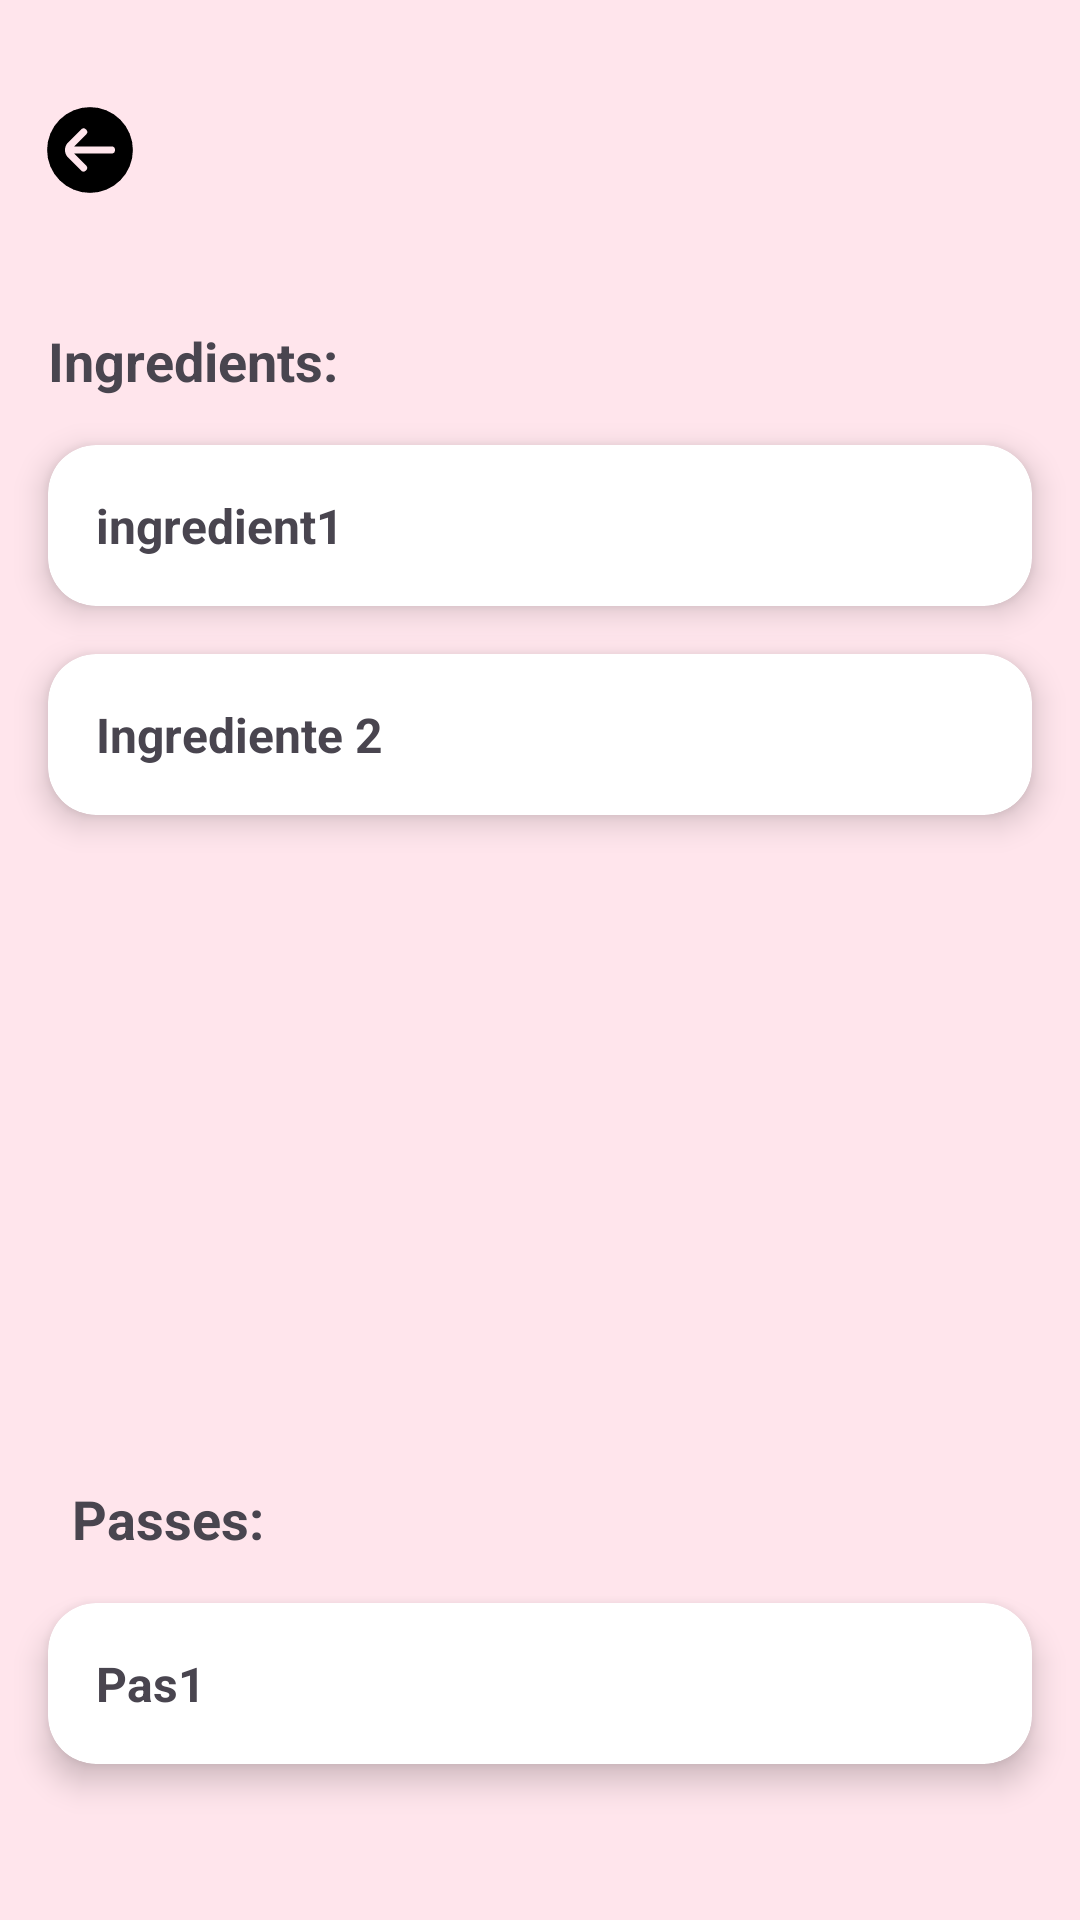

Screen size 1080 x 1920. Icon name, then its box in pixels as (x1, y1, x2, y2):
draw volver: (47, 107, 133, 193)
